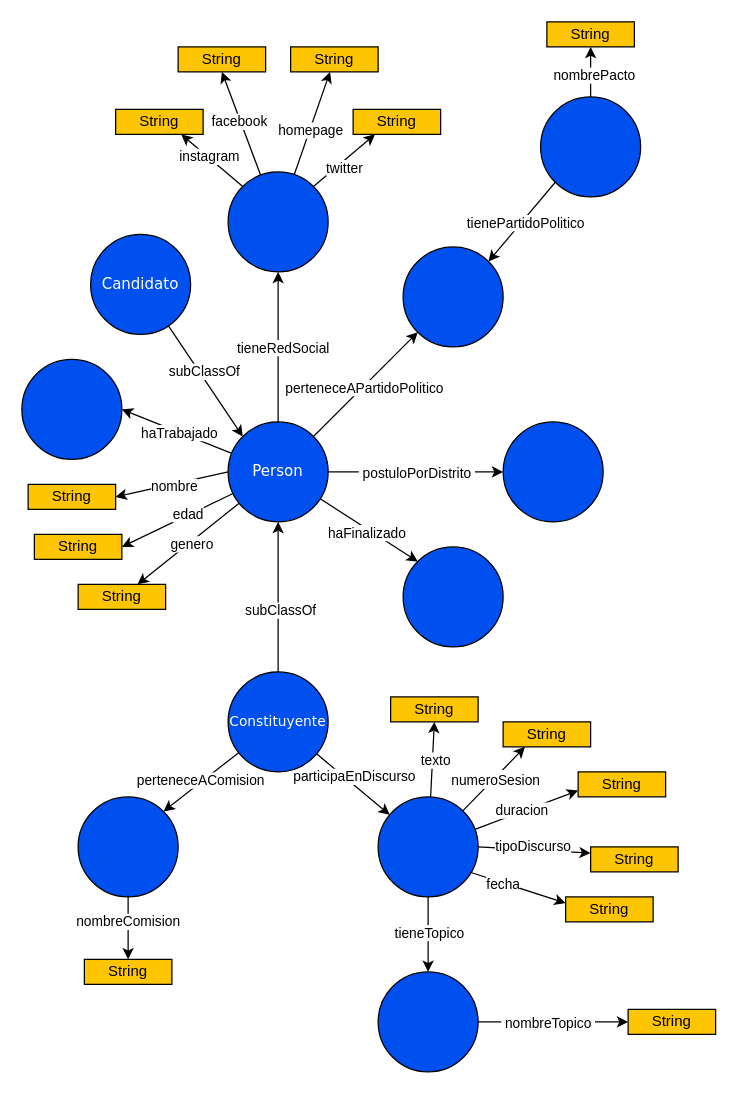
Some shapes in this 738 by 1094 pixel diagram are drawn without their labels. Here are the shapes that lost their labels. From the top down, the box of each, then its label:
(539, 96, 641, 197): Pacto
(227, 171, 328, 272): RedSocial
(402, 246, 503, 347): PartidoPolitico
(21, 358, 122, 459): Cargo
(502, 421, 603, 522): Distrito
(402, 546, 503, 647): Profesion
(77, 796, 178, 897): Comision
(377, 796, 478, 897): Discurso
(377, 971, 478, 1072): Topico
